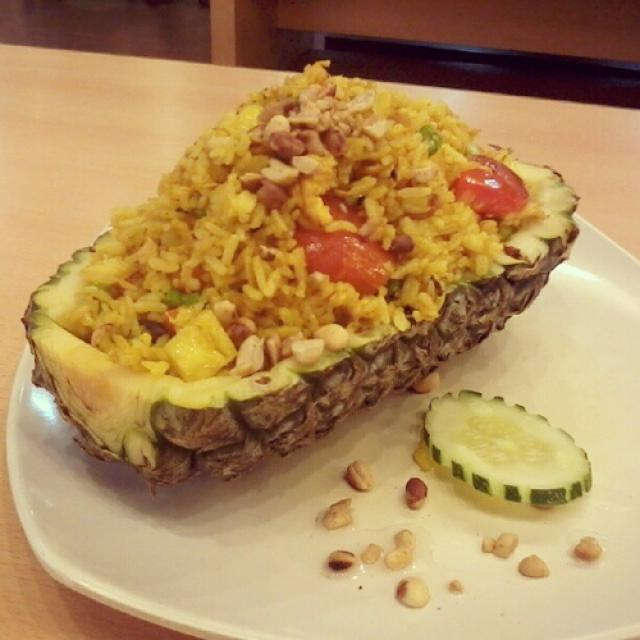米饭主食: (54, 58, 626, 578)
